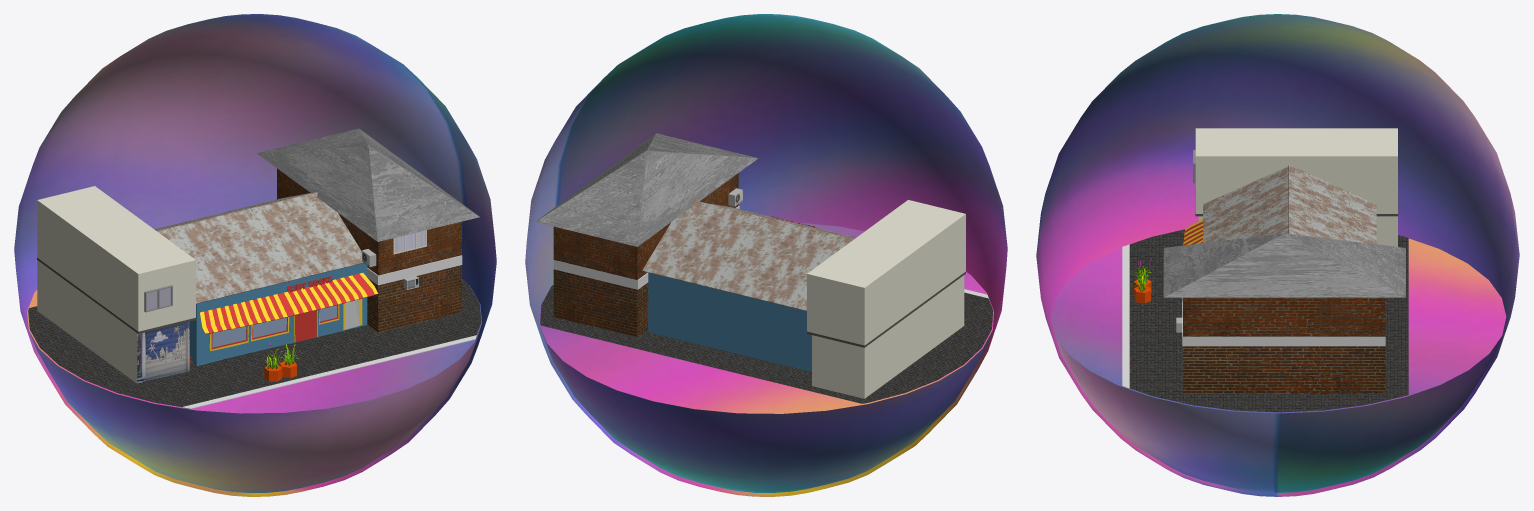
The model's file is BentBooks3.glb.
The picture shows the model from 3 angles, left to right: view 1: azimuth 30°, elevation 25°; view 2: azimuth 150°, elevation 25°; view 3: azimuth 270°, elevation 25°; orthographic projection.
Visible parts, largest first — view 1: Sphere, Sphere.003, Cube.003, Plane.006, Plane, Cube.005, Cube.006, Cube.001, path43245, path5779, path5924, Cube (+5 smaller); view 2: Sphere, Sphere.003, Cube.003, Plane.001, Cube.005, Cube, Plane.006, Cube.001, Cube.006, Cube.004; view 3: Sphere, Sphere.003, Cube.001, Cube.005, Plane.006, Cube.003, Plane.001, Plane, Cube.004, Cube.016, Cube.006.
Boxes of the visible parts, <box> form: Sphere: <box>14,14,496,496</box>; Sphere.003: <box>27,286,481,492</box>; Cube.003: <box>37,186,195,331</box>; Plane.006: <box>28,279,481,406</box>; Plane: <box>158,192,363,303</box>; Cube.005: <box>257,128,479,241</box>; Cube.006: <box>37,260,189,383</box>; Cube.001: <box>277,168,461,332</box>; path43245: <box>195,263,367,365</box>; path5779: <box>199,273,378,333</box>; path5924: <box>204,274,374,333</box>; Cube: <box>189,304,336,365</box>; Sphere: <box>525,14,1007,496</box>; Sphere.003: <box>539,222,993,492</box>; Cube.003: <box>807,200,965,345</box>; Plane.001: <box>642,199,853,310</box>; Cube.005: <box>535,133,758,246</box>; Cube: <box>648,272,811,371</box>; Plane.006: <box>540,285,993,403</box>; Cube.001: <box>553,173,738,337</box>; Cube.006: <box>812,275,964,398</box>; Cube.004: <box>553,206,739,289</box>; Sphere: <box>1036,14,1519,496</box>; Sphere.003: <box>1050,238,1506,492</box>; Cube.001: <box>1183,297,1385,393</box>; Cube.005: <box>1163,233,1405,297</box>; Plane.006: <box>1129,229,1408,412</box>; Cube.003: <box>1195,128,1397,213</box>; Plane.001: <box>1288,164,1376,244</box>; Plane: <box>1203,166,1288,242</box>; Cube.004: <box>1182,302,1385,346</box>; Cube.016: <box>1122,244,1129,388</box>; Cube.006: <box>1198,216,1397,246</box>.
Size of the model in its own units: 6.72 by 6.72 by 6.72.
Materials: 30 (12 with a texture image).
